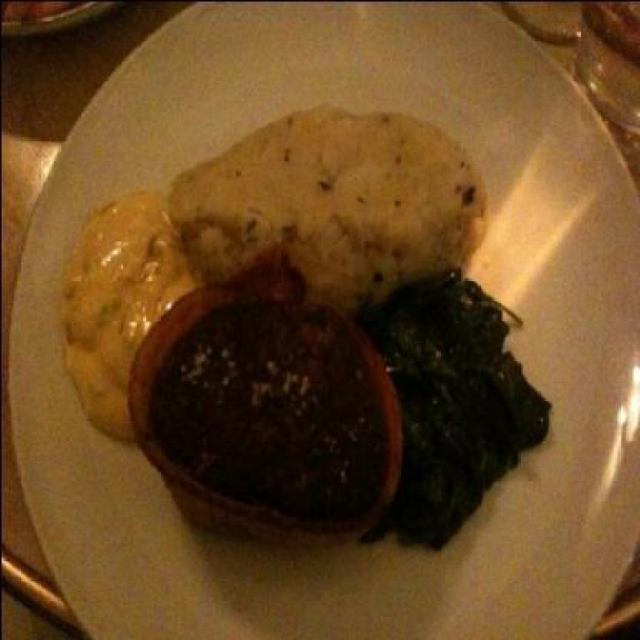Steak: (132, 252, 557, 566)
